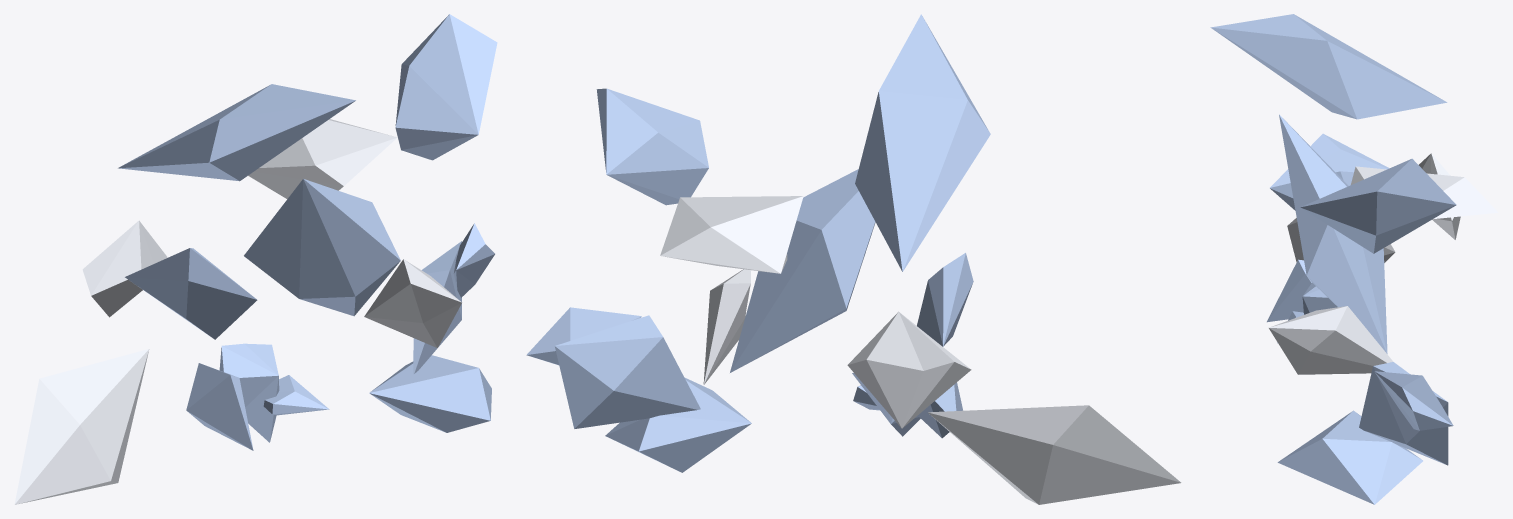
Rendered from alche_shards.glb.
3 renders of one model, left to right at view 1: azimuth 30°, elevation 25°; view 2: azimuth 150°, elevation 25°; view 3: azimuth 270°, elevation 25°, orthographic. The views are drawn at different scales.
Visible parts, largest first — view 1: Shard_00, Shard_02, Shard_03, Shard_05, Shard_13, Shard_11, Shard_04, Shard_08, Shard_12, Shard_07, Shard_06, Shard_09 (+2 smaller); view 2: Shard_03, Shard_00, Shard_02, Shard_09, Shard_05, Shard_04, Shard_12, Shard_13, Shard_11, Shard_08, Shard_10, Shard_06; view 3: Shard_03, Shard_02, Shard_05, Shard_13, Shard_08, Shard_09, Shard_10, Shard_11, Shard_04, Shard_06, Shard_12, Shard_07 (+1 smaller).
Part boxes in pixels (box(x1,y1,x2,y2)): Shard_00: box(14, 349, 149, 504); Shard_02: box(244, 178, 400, 316); Shard_03: box(118, 84, 355, 181); Shard_05: box(395, 14, 497, 160); Shard_13: box(369, 355, 491, 432); Shard_11: box(125, 248, 257, 339); Shard_04: box(248, 119, 397, 198); Shard_08: box(364, 259, 461, 347); Shard_12: box(82, 220, 167, 317); Shard_07: box(219, 343, 279, 442); Shard_06: box(186, 363, 253, 450); Shard_09: box(413, 241, 461, 374); Shard_03: box(855, 14, 990, 271); Shard_00: box(928, 405, 1181, 504); Shard_02: box(730, 169, 875, 372); Shard_09: box(555, 315, 700, 428); Shard_05: box(596, 88, 708, 205); Shard_04: box(660, 196, 803, 273); Shard_12: box(847, 311, 971, 428); Shard_13: box(605, 377, 751, 472); Shard_11: box(917, 253, 973, 346); Shard_08: box(703, 269, 750, 384); Shard_10: box(526, 307, 641, 365); Shard_06: box(918, 382, 962, 438); Shard_03: box(1210, 14, 1447, 119); Shard_02: box(1279, 114, 1387, 353); Shard_05: box(1300, 158, 1456, 253); Shard_13: box(1277, 410, 1422, 504); Shard_08: box(1268, 306, 1393, 374); Shard_09: box(1359, 362, 1448, 465); Shard_10: box(1374, 371, 1453, 430); Shard_11: box(1270, 133, 1389, 210); Shard_04: box(1351, 166, 1497, 219); Shard_06: box(1267, 259, 1311, 322); Shard_12: box(1419, 153, 1460, 239); Shard_07: box(1302, 282, 1337, 314).
Bounding box in the file's own units: 10.71 × 7.66 × 5.18.
